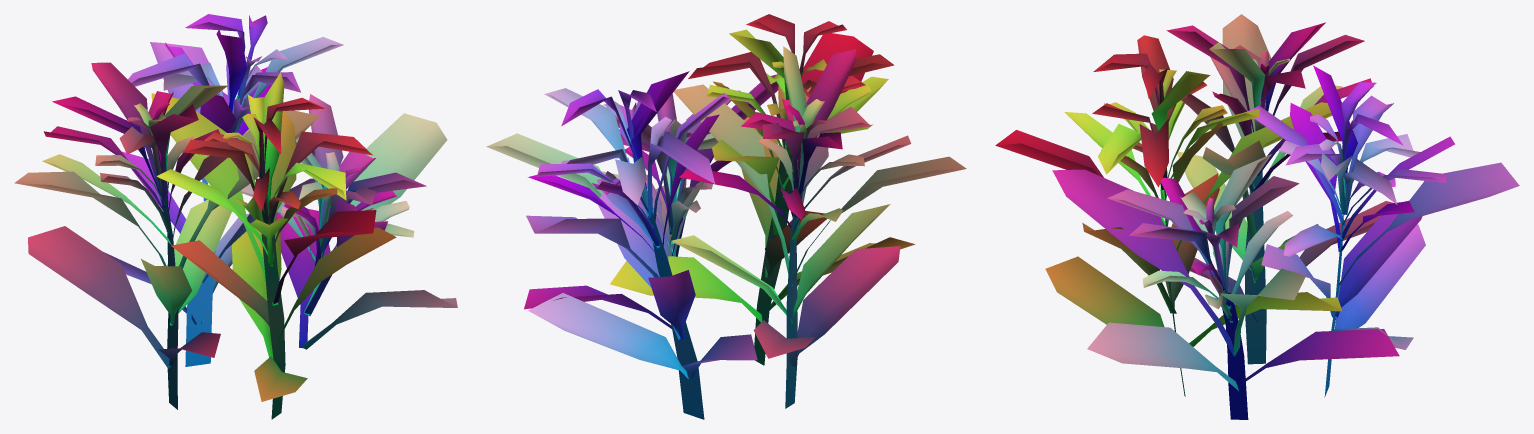
Rendered from Sage_ve3gbfoja_Mid_ve3gbfoja_VarH_LOD2.fbx.
The picture shows the model from 3 angles, left to right: view 1: azimuth 30°, elevation 25°; view 2: azimuth 150°, elevation 25°; view 3: azimuth 270°, elevation 25°; orthographic projection.
Parts seen in each view (by area): view 1: _oae6_VarH_LOD4; view 2: _oae6_VarH_LOD4; view 3: _oae6_VarH_LOD4.
Part boxes in pixels (<box>): _oae6_VarH_LOD4: <box>14,14,457,419</box>; _oae6_VarH_LOD4: <box>486,14,966,419</box>; _oae6_VarH_LOD4: <box>995,14,1519,419</box>.
Bounding box in the file's own units: 40.12 × 28.72 × 40.75.
